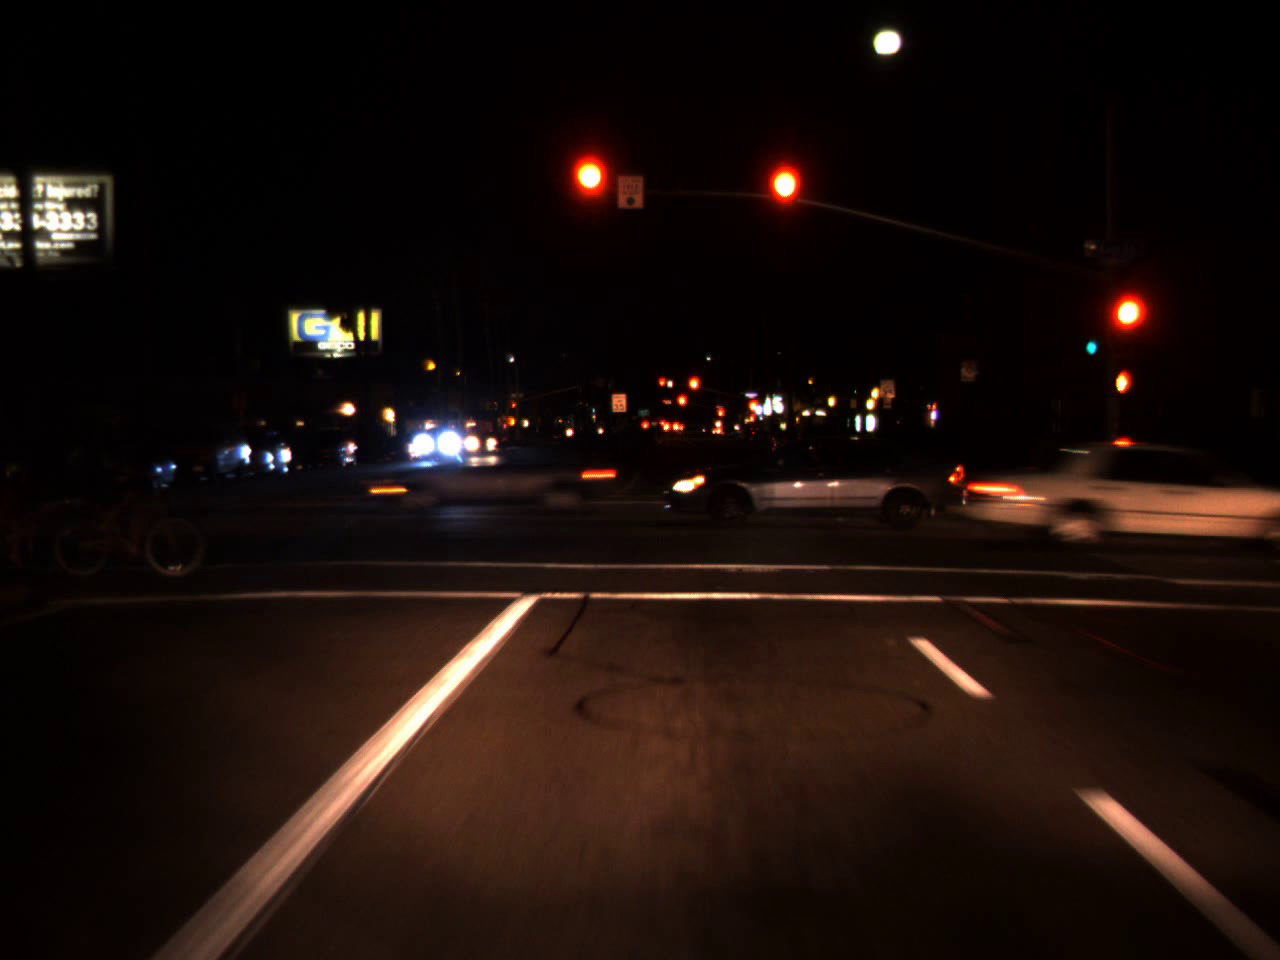stop: (765, 166, 801, 241), (1109, 293, 1146, 363), (571, 161, 610, 225), (686, 375, 701, 404), (675, 392, 688, 421), (656, 376, 668, 400), (747, 398, 759, 422), (716, 406, 725, 427), (509, 400, 516, 413)
